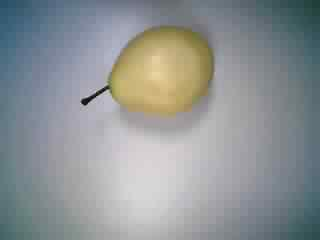pear: (71, 15, 230, 131)
